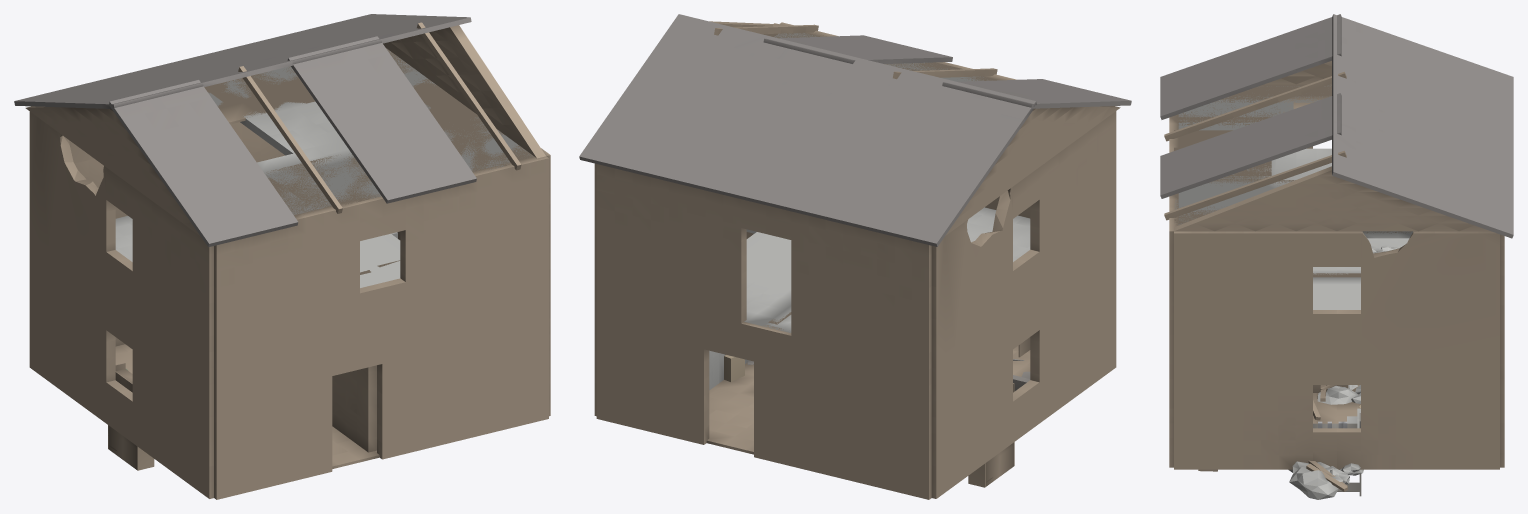
The model's file is casa_r12.glb.
The picture shows the model from 3 angles, left to right: view 1: azimuth 30°, elevation 25°; view 2: azimuth 150°, elevation 25°; view 3: azimuth 270°, elevation 25°; orthographic projection. The views are drawn at different scales.
Parts seen in each view (by area): view 1: telhado, ext1_0, ext0_0, ext0_3, ext1_3, laje2, forro, telhado_oitao2, telhado_oitao0, int_0, telhado_vigas, laje1 (+3 smaller); view 2: telhado, ext0_2, ext1_2, ext0_3, ext1_3, telhado_oitao0, laje1, chao, telhado_vigas, estante_sala1, forro; view 3: telhado, ext1_1, ext0_1, telhado_oitao2, laje2, forro, telhado_vigas, laje1, entulho_fora, ext1_0, entulho, chao (+5 smaller).
Boxes of the visible parts, x1,y1,x2,y2 form: telhado: (14, 14, 476, 247); ext1_0: (214, 156, 548, 369); ext0_0: (214, 288, 548, 499); ext0_3: (29, 237, 213, 498); ext1_3: (29, 111, 213, 368); laje2: (208, 49, 532, 214); forro: (204, 48, 533, 214); telhado_oitao2: (383, 25, 545, 158); telhado_oitao0: (25, 106, 199, 235); int_0: (332, 365, 376, 452); telhado_vigas: (238, 22, 521, 213); laje1: (115, 216, 400, 287); telhado: (579, 14, 1131, 246); ext0_2: (596, 288, 931, 499); ext1_2: (596, 164, 931, 369); ext0_3: (931, 237, 1116, 498); ext1_3: (931, 111, 1116, 368); telhado_oitao0: (945, 106, 1120, 235); laje1: (744, 207, 1030, 332); chao: (706, 345, 1030, 454); telhado_vigas: (714, 24, 997, 79); estante_sala1: (968, 383, 1014, 487); forro: (774, 33, 997, 80); telhado: (1160, 14, 1513, 238); ext1_1: (1174, 231, 1499, 351); ext0_1: (1174, 351, 1499, 469); telhado_oitao2: (1174, 166, 1490, 231); laje2: (1174, 85, 1413, 238); forro: (1174, 84, 1411, 233); telhado_vigas: (1164, 71, 1346, 220); laje1: (1313, 238, 1409, 309); entulho_fora: (1288, 460, 1363, 499); ext1_0: (1169, 114, 1178, 349); entulho: (1313, 385, 1360, 420); chao: (1313, 385, 1360, 423).
Size of what is drawn, in the model's own units: 9.79 by 8.56 by 8.14.
